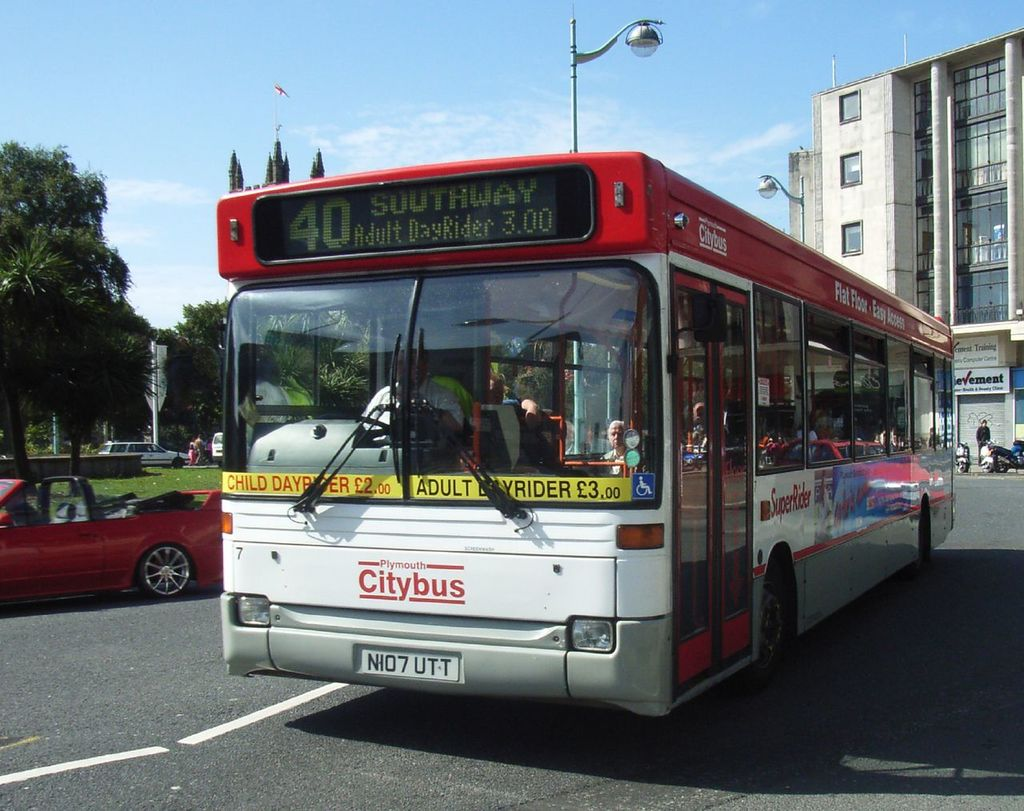Car: (7, 467, 228, 623), (95, 435, 184, 463)
